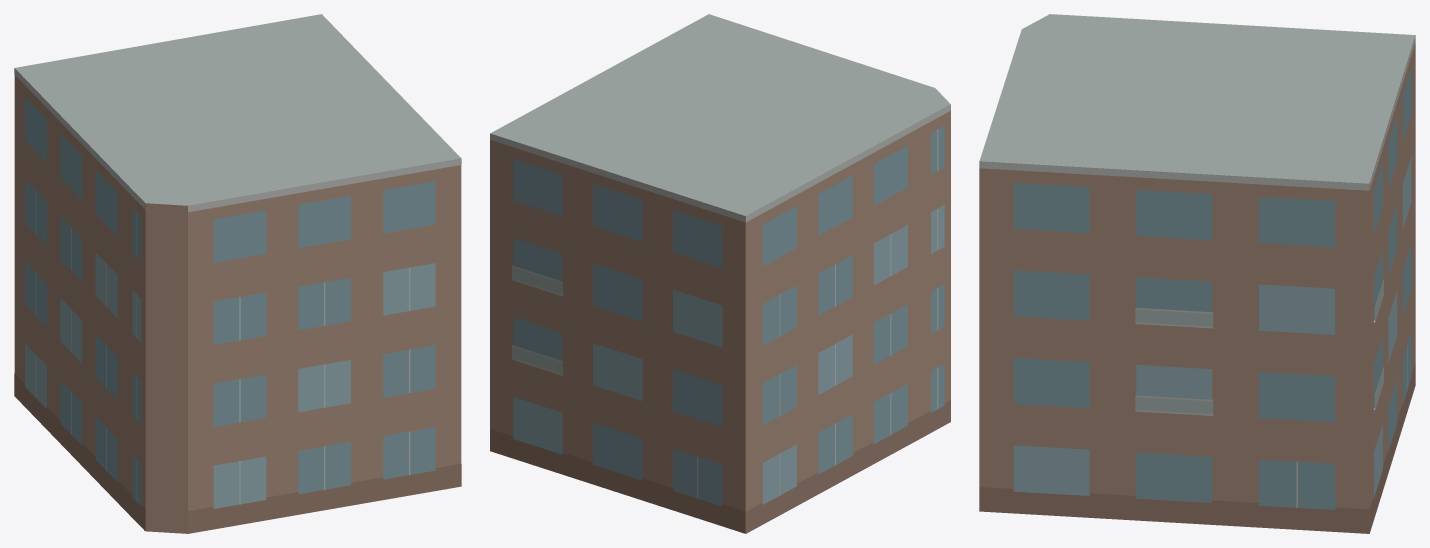
Rendered from survey-upis-32802417.glb.
3 renders of one model, left to right at view 1: azimuth 30°, elevation 25°; view 2: azimuth 150°, elevation 25°; view 3: azimuth 270°, elevation 25°, orthographic. The views are drawn at different scales.
Parts seen in each view (by area): view 1: survey-upis-32802417.tmp; view 2: survey-upis-32802417.tmp; view 3: survey-upis-32802417.tmp.
Boxes of the visible parts, x1=… form: survey-upis-32802417.tmp: x1=14, y1=14, x2=461, y2=533; survey-upis-32802417.tmp: x1=490, y1=14, x2=950, y2=533; survey-upis-32802417.tmp: x1=979, y1=14, x2=1415, y2=533.
Bounding box in the file's own units: 12.7 × 12.2 × 13.79.
